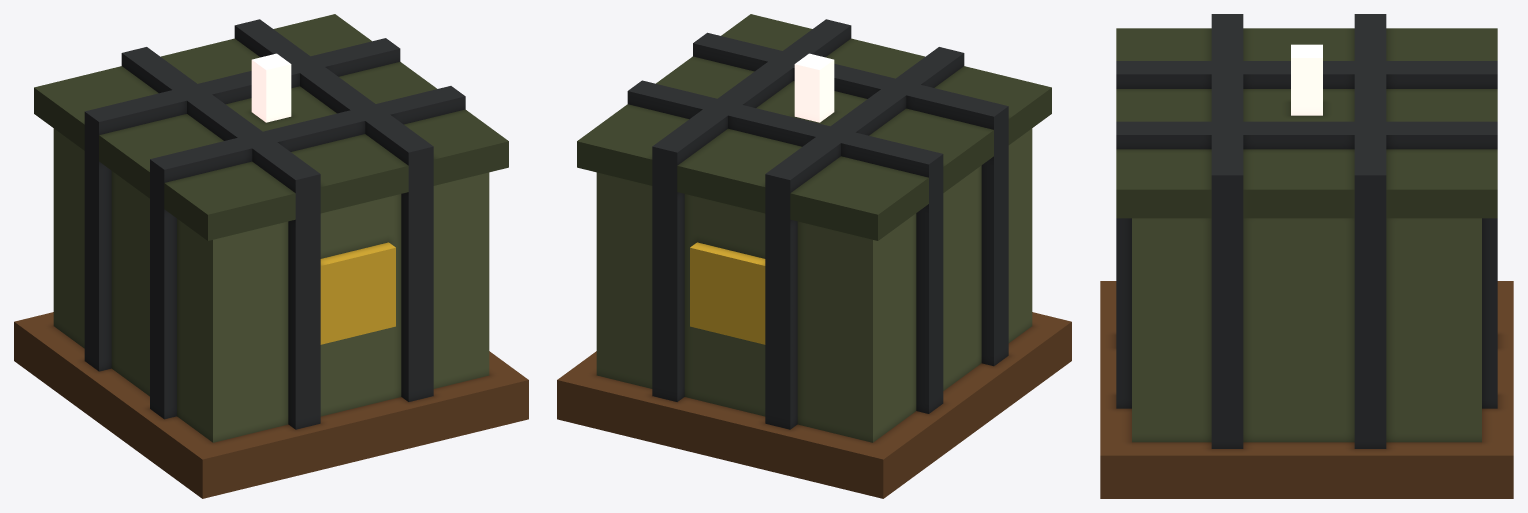
File: cm_airdrop.glb
3 views of the same model, side by side, from view 1: azimuth 30°, elevation 25°; view 2: azimuth 150°, elevation 25°; view 3: azimuth 270°, elevation 25° (orthographic). The views are drawn at different scales.
Visible parts, largest first — view 1: cm_airdrop_body; view 2: cm_airdrop_body; view 3: cm_airdrop_body.
Part boxes in pixels (left/top/right/bottom): cm_airdrop_body: left=14, top=14, right=528, bottom=498; cm_airdrop_body: left=557, top=14, right=1071, bottom=498; cm_airdrop_body: left=1100, top=14, right=1513, bottom=498.
Bounding box in the file's own units: 1.62 × 1.56 × 1.62.
1 material, 1 textured.
